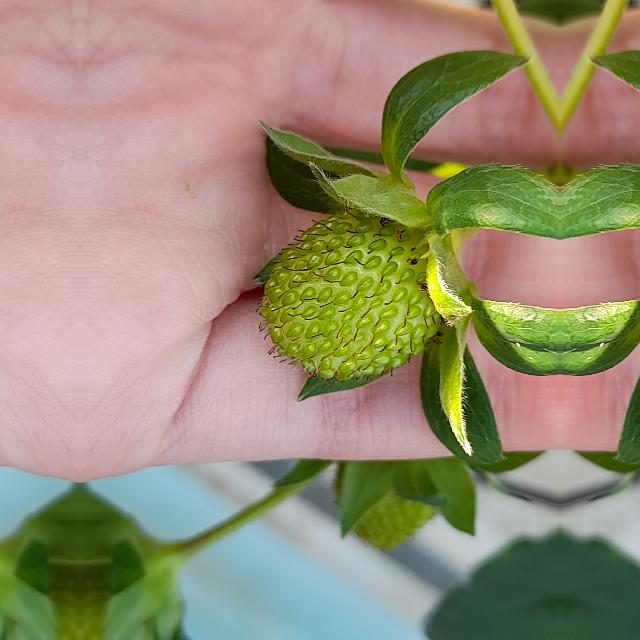Health_25: (256, 207, 442, 385)
